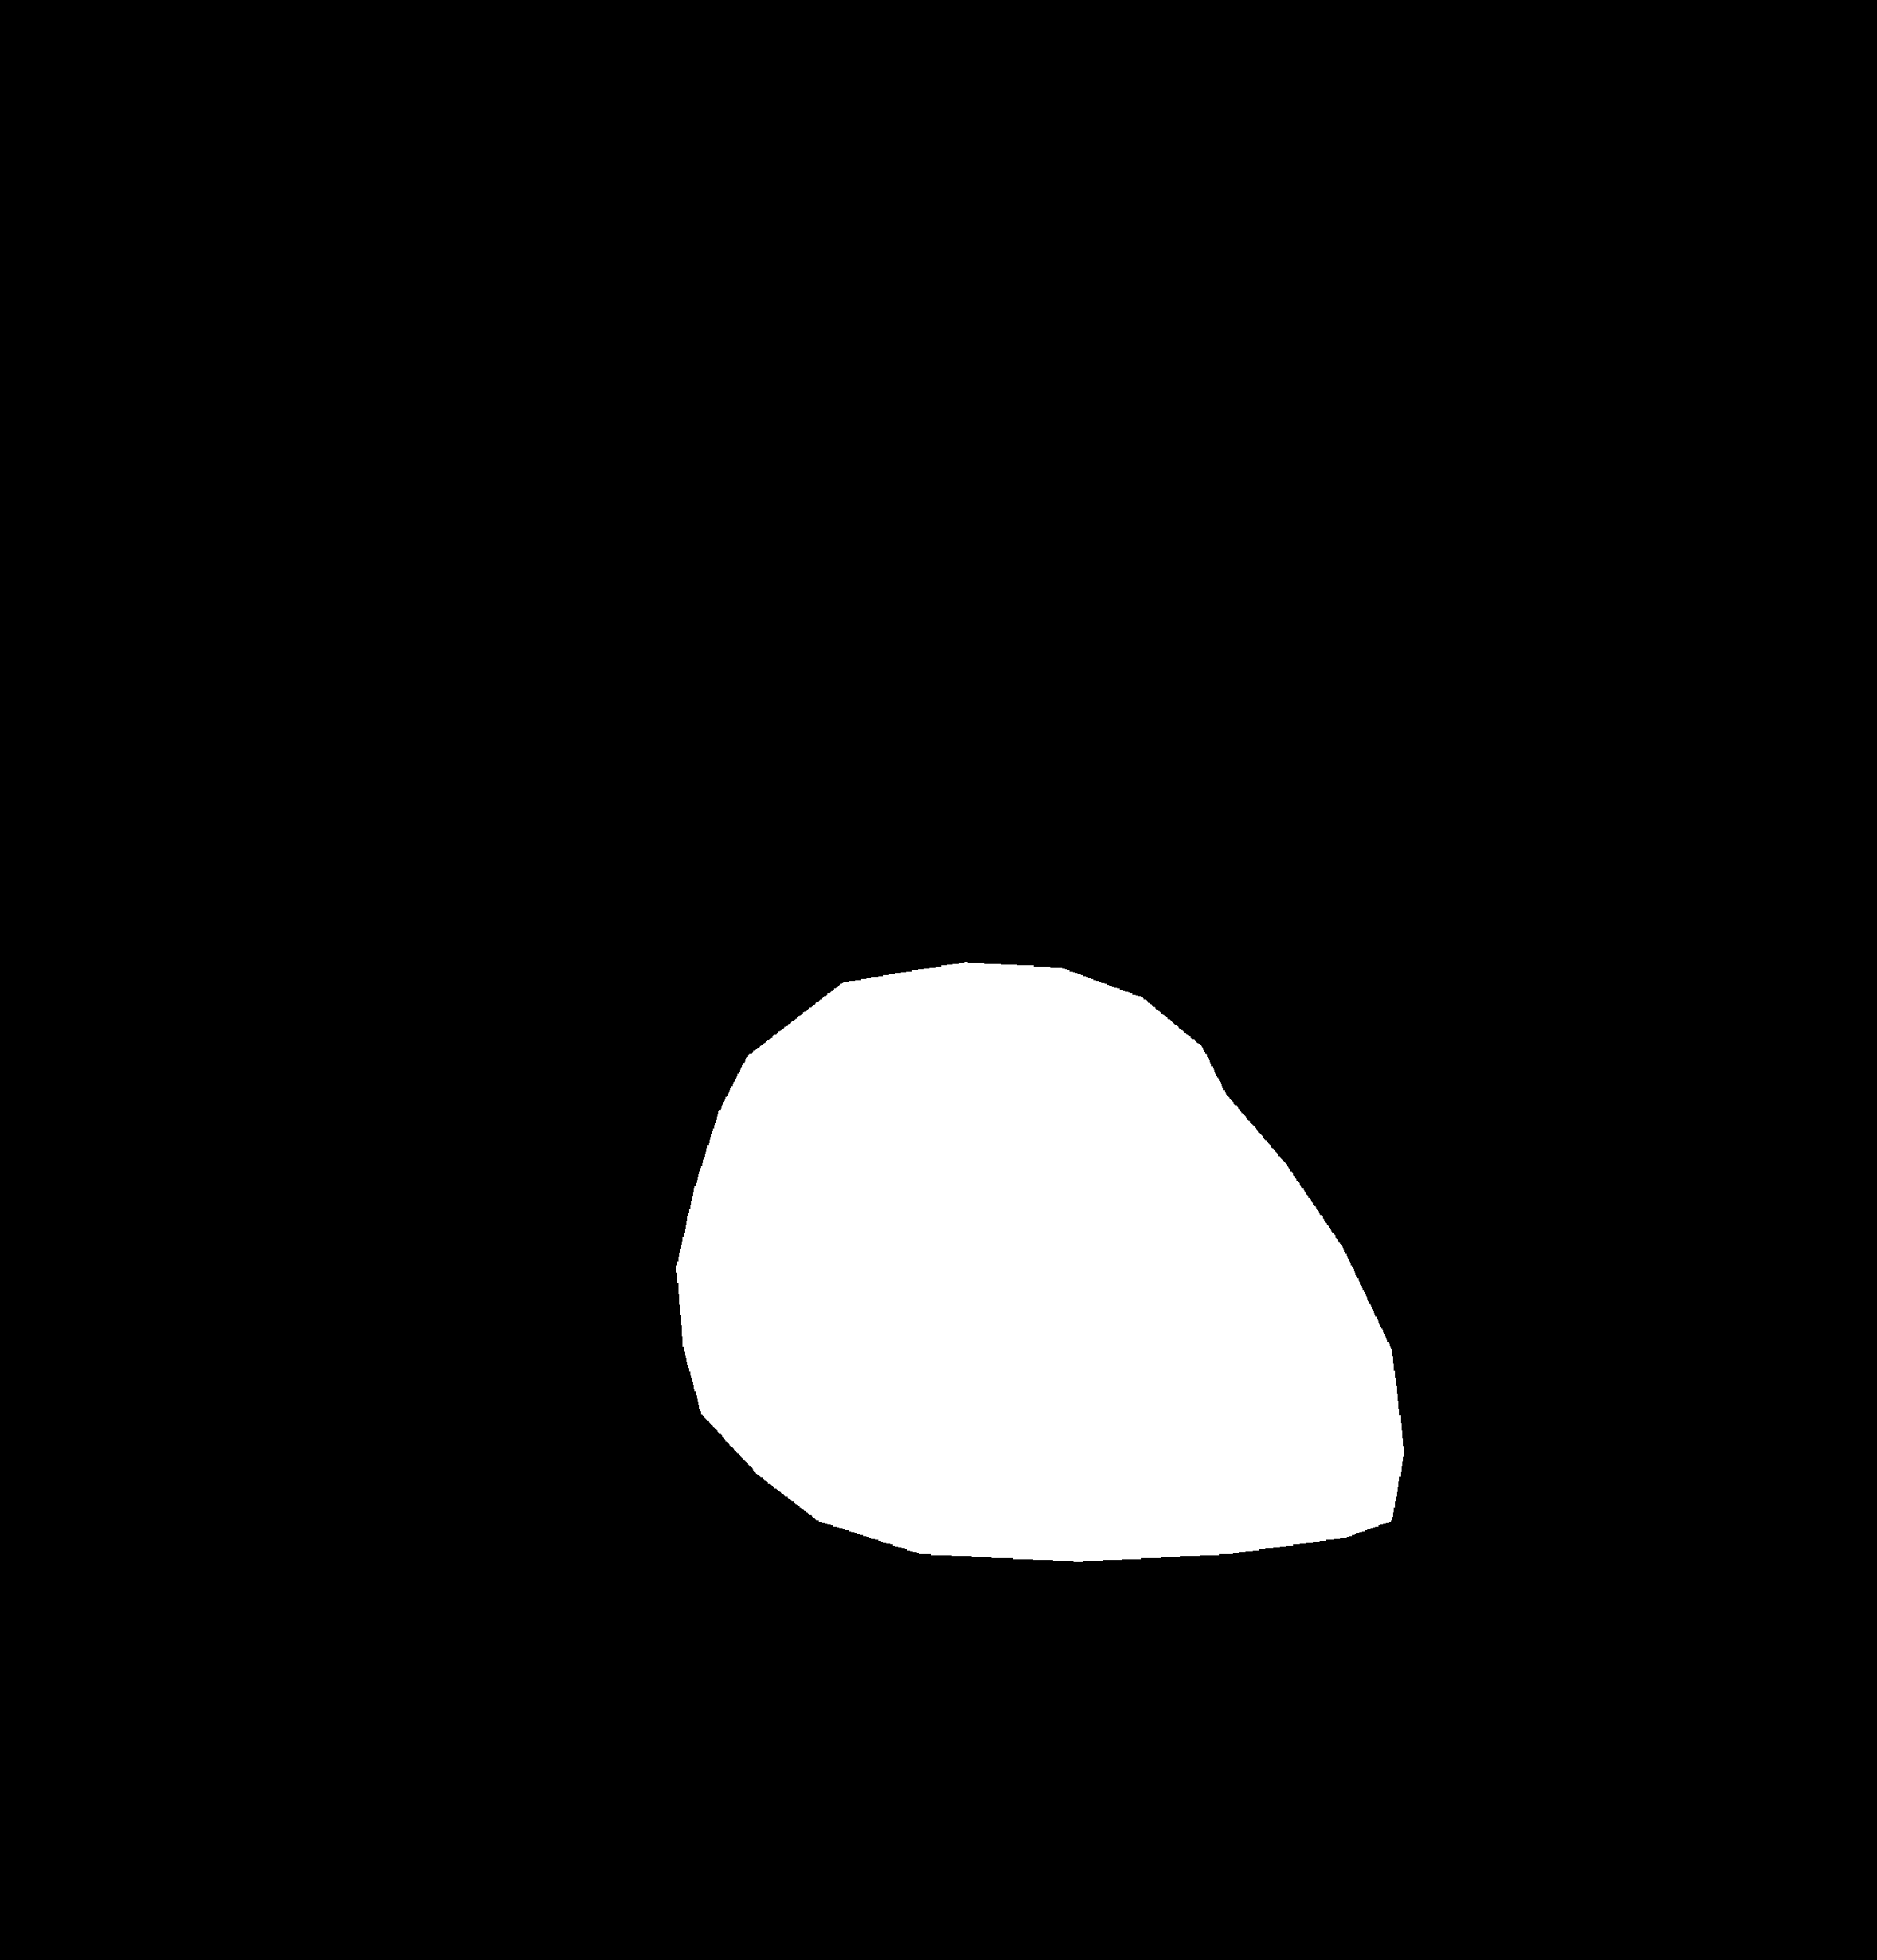heart: (689, 1066, 1405, 1603)
left_lung: (157, 298, 834, 1846)
right_lung: (974, 299, 1664, 1775)
